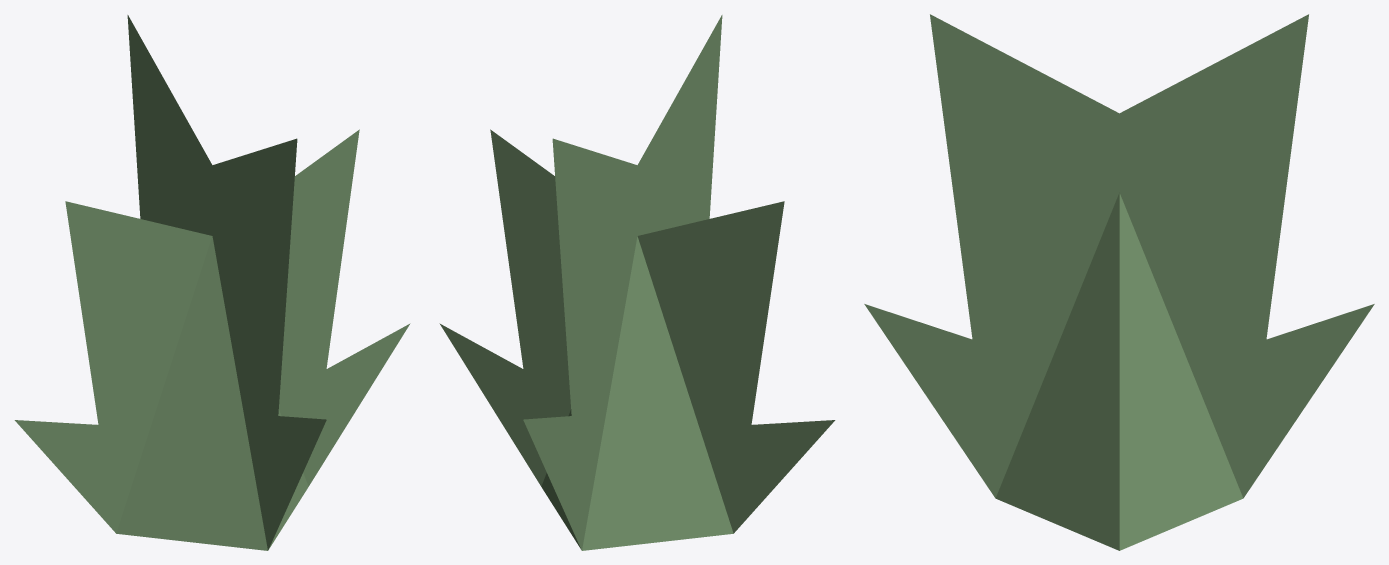
The model's file is understory-b.glb.
3 renders of one model, left to right at view 1: azimuth 30°, elevation 25°; view 2: azimuth 150°, elevation 25°; view 3: azimuth 270°, elevation 25°, orthographic. The views are drawn at different scales.
Parts seen in each view (by area): view 1: plant_flatTall; view 2: plant_flatTall; view 3: plant_flatTall.
Part boxes in pixels (x1,y1,x2,y2): plant_flatTall: [14, 15, 410, 550]; plant_flatTall: [439, 15, 835, 550]; plant_flatTall: [864, 14, 1374, 550].
Size of the model in its own units: 1.15 by 1.2 by 1.15.
